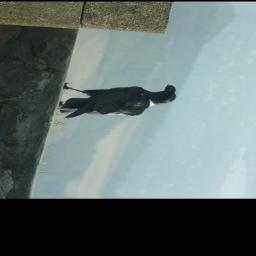Crow: (55, 77, 180, 125)
